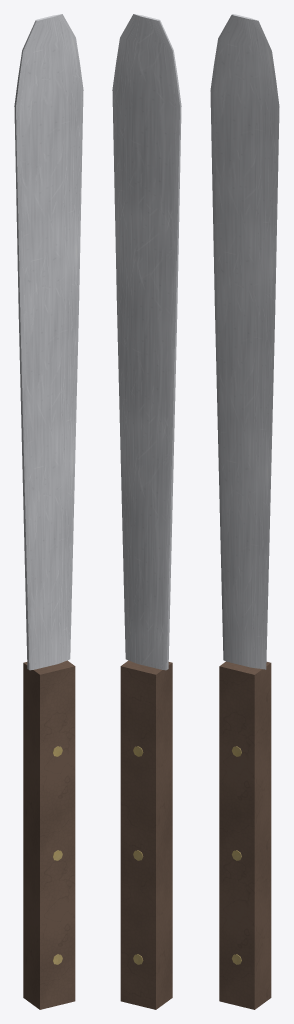
The model's file is machete.glb.
The picture shows the model from 3 angles, left to right: view 1: azimuth 30°, elevation 25°; view 2: azimuth 150°, elevation 25°; view 3: azimuth 330°, elevation 25°; orthographic projection.
Parts seen in each view (by area): view 1: OUT; view 2: OUT; view 3: OUT.
Boxes of the visible parts, x1,y1,x2,y2 form: OUT: [14, 14, 83, 1009]; OUT: [112, 14, 181, 1009]; OUT: [210, 14, 279, 1009].
Bounding box in the file's own units: 0.0619 × 0.85 × 0.027.
3 materials, 3 textured.
